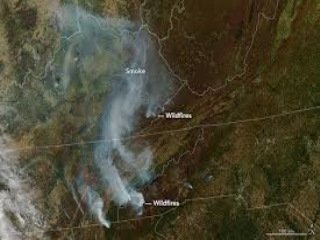smoke: (71, 41, 159, 225), (5, 156, 44, 230)
